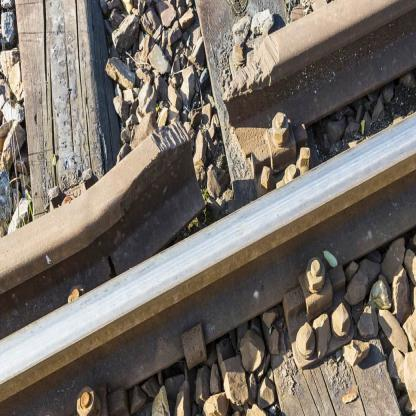Defective 2: (112, 13, 340, 220)
